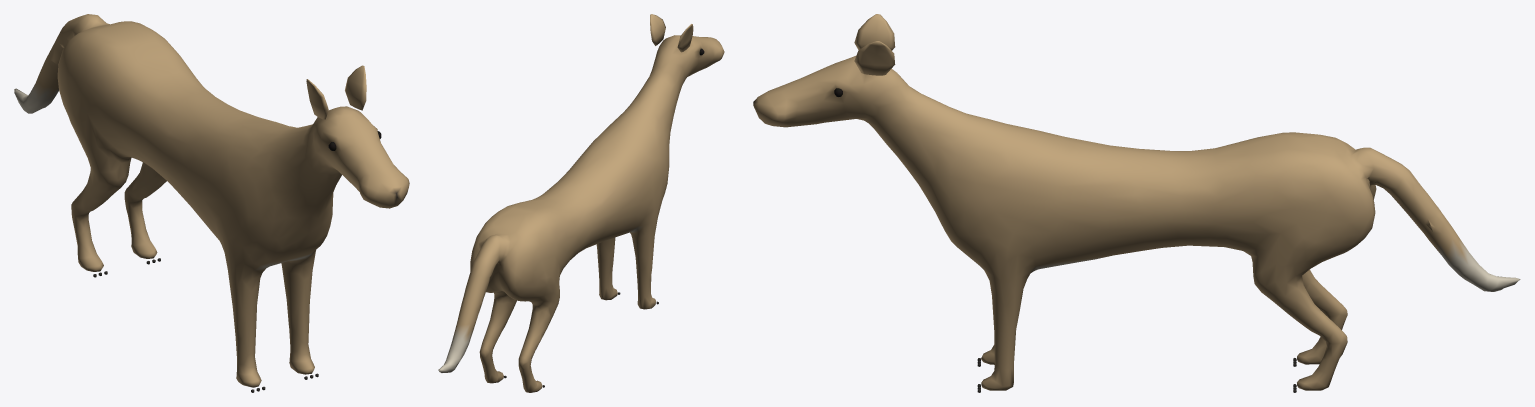
Rendered from dingo.glb.
3 renders of one model, left to right at view 1: azimuth 30°, elevation 25°; view 2: azimuth 150°, elevation 25°; view 3: azimuth 270°, elevation 25°, orthographic. The views are drawn at different scales.
Parts seen in each view (by area): view 1: lack; view 2: lack; view 3: lack.
Part boxes in pixels (x1=…): lack: x1=14, y1=14, x2=409, y2=392; lack: x1=438, y1=14, x2=724, y2=392; lack: x1=753, y1=14, x2=1520, y2=392.
Size of the model in its own units: 0.2369 by 0.8263 by 1.64.
